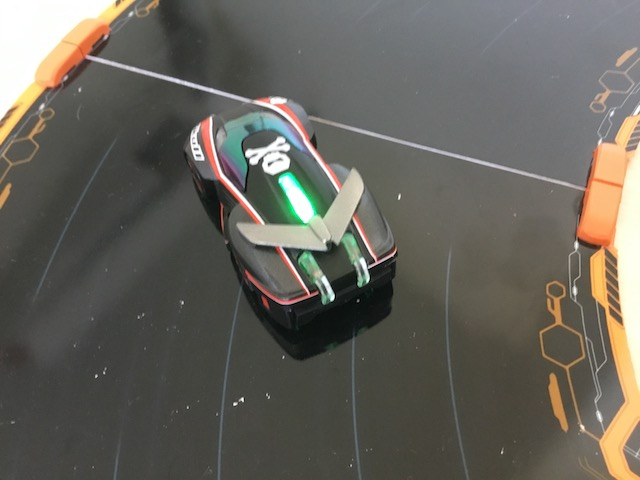car-red: (179, 92, 401, 344)
